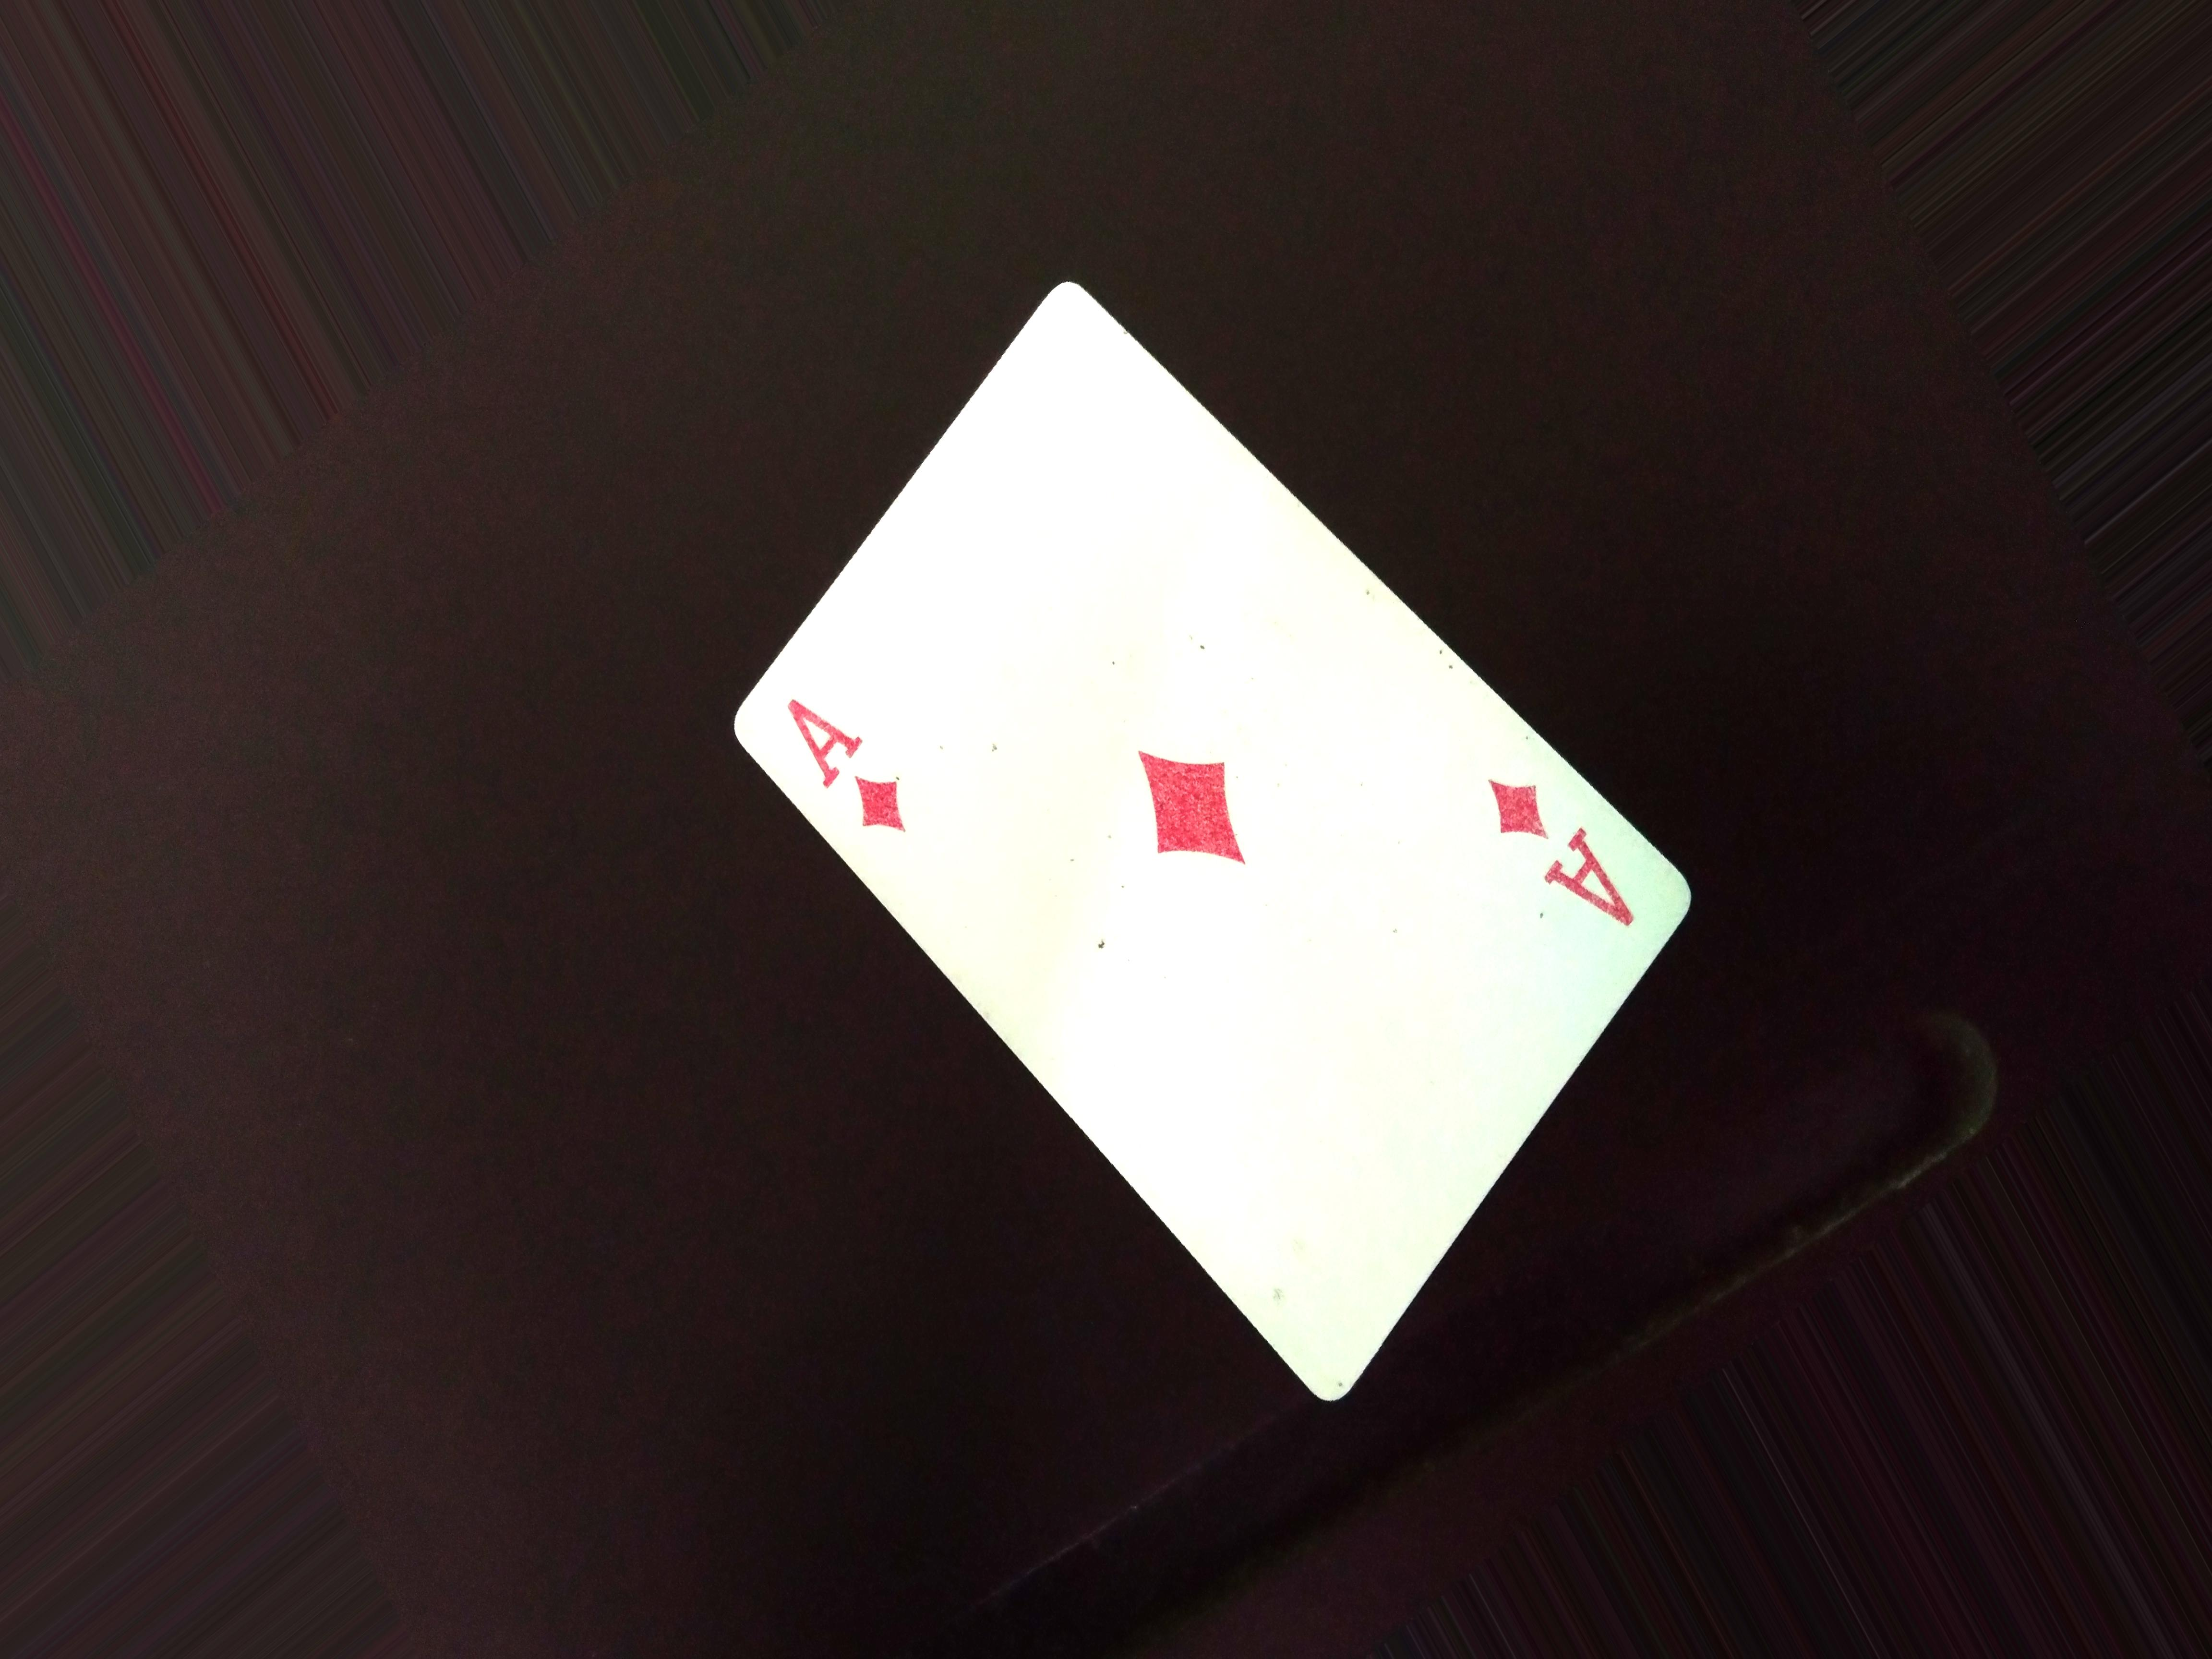AD: (770, 681, 914, 847)
